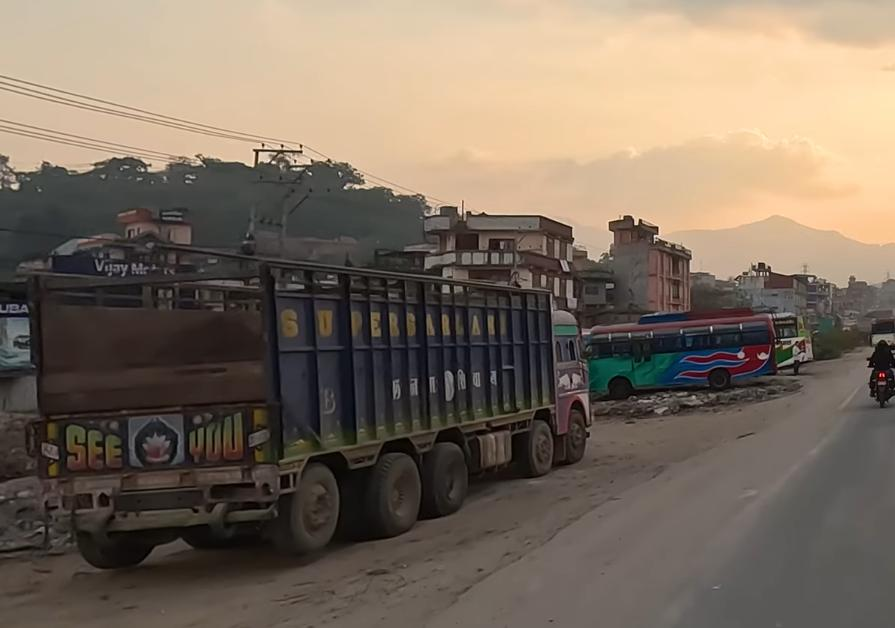bike: (867, 363, 894, 408)
bus: (583, 306, 777, 400)
truck: (19, 235, 593, 568)
